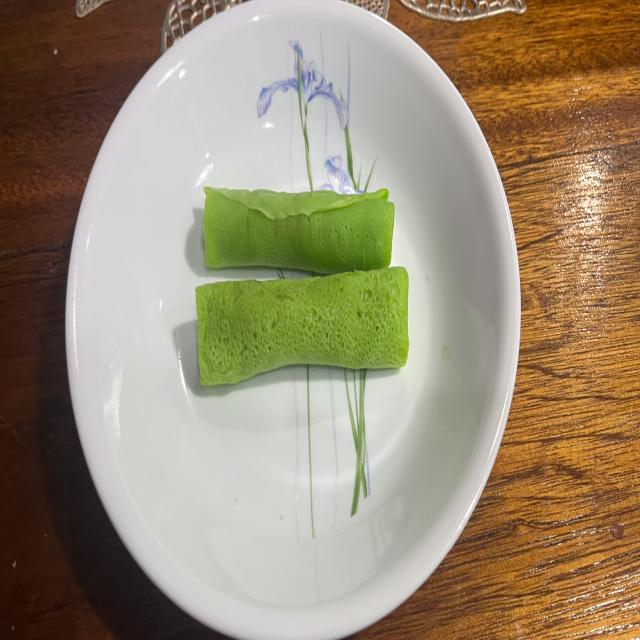Kuih-Ketayap: (195, 267, 409, 384), (204, 187, 394, 273)
